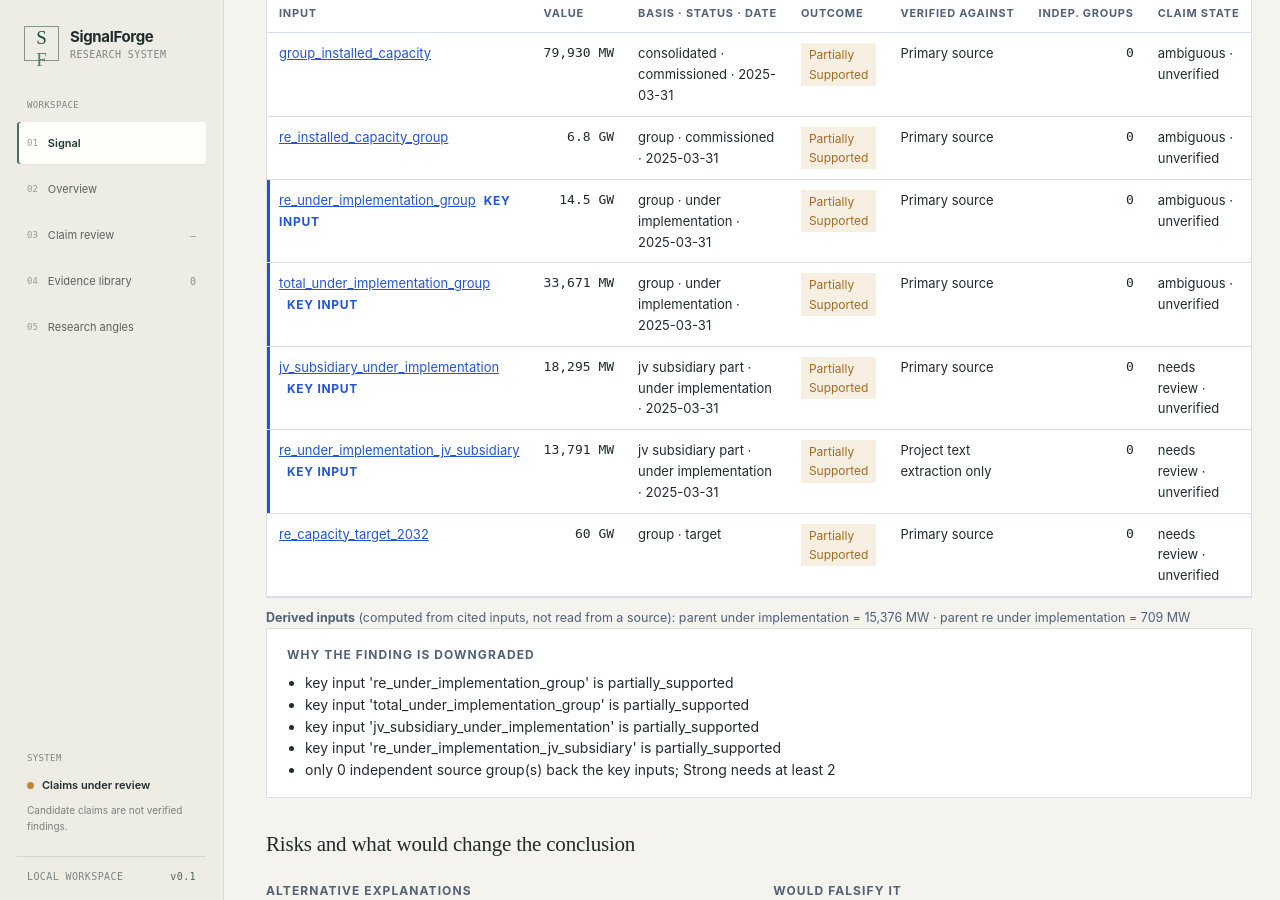
Signal view › keeps the rounded narrative, extracted renewable amount, and detailed total as distinct source evidence
The image size is (1280, 900).
(page scrolled)
Click the button "re_under_implementation_jv_subsidiary": x=399, y=451 [279,440,520,461]
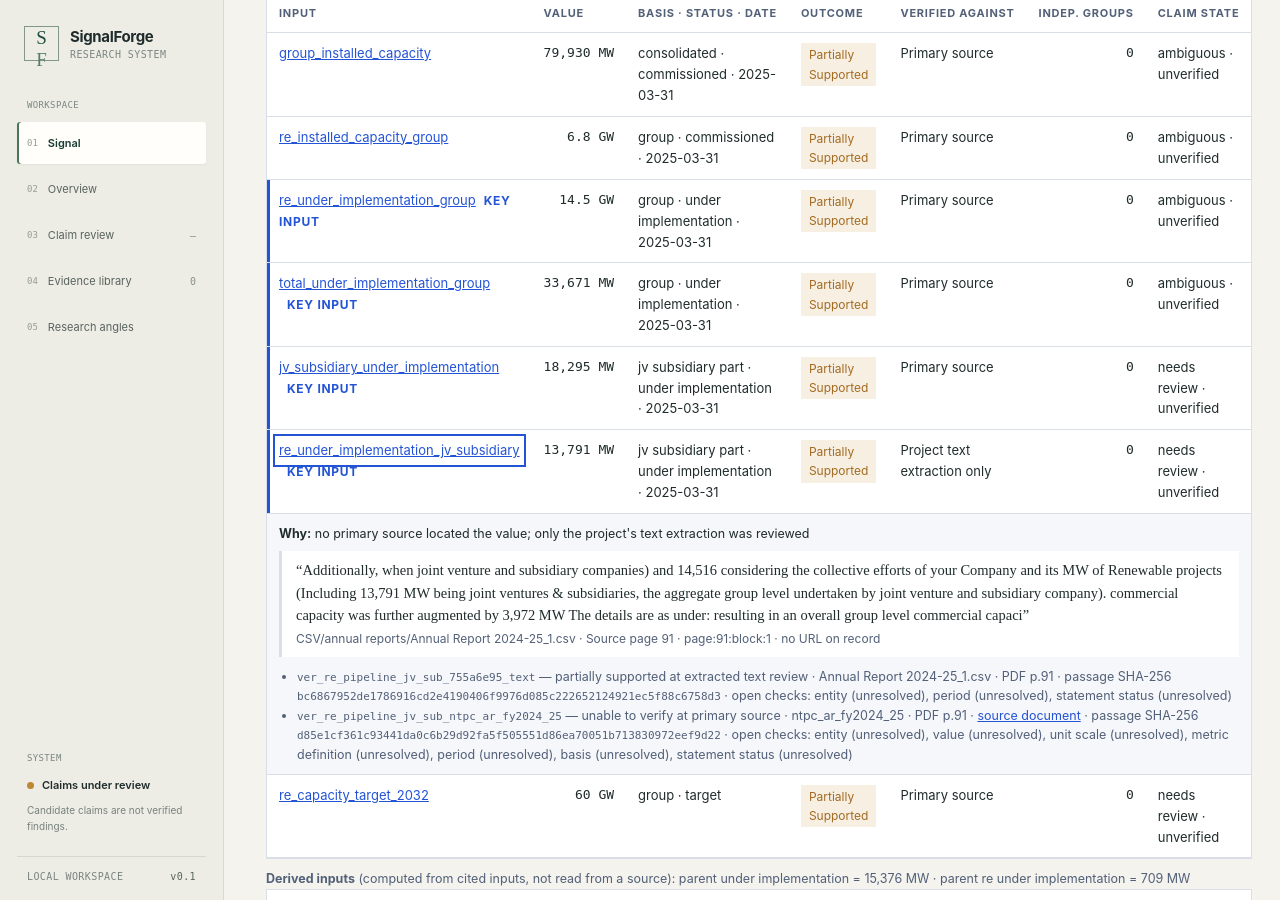
Check: the text "14,516" is shown, box [296,562,1222,623]
Check: the text "Source page 91" is shown, box [576,631,674,646]
